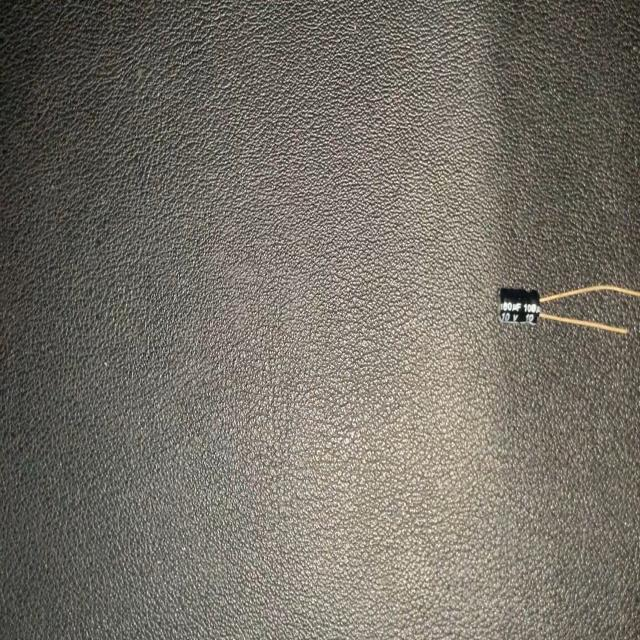capacitor: (494, 273, 640, 345)
